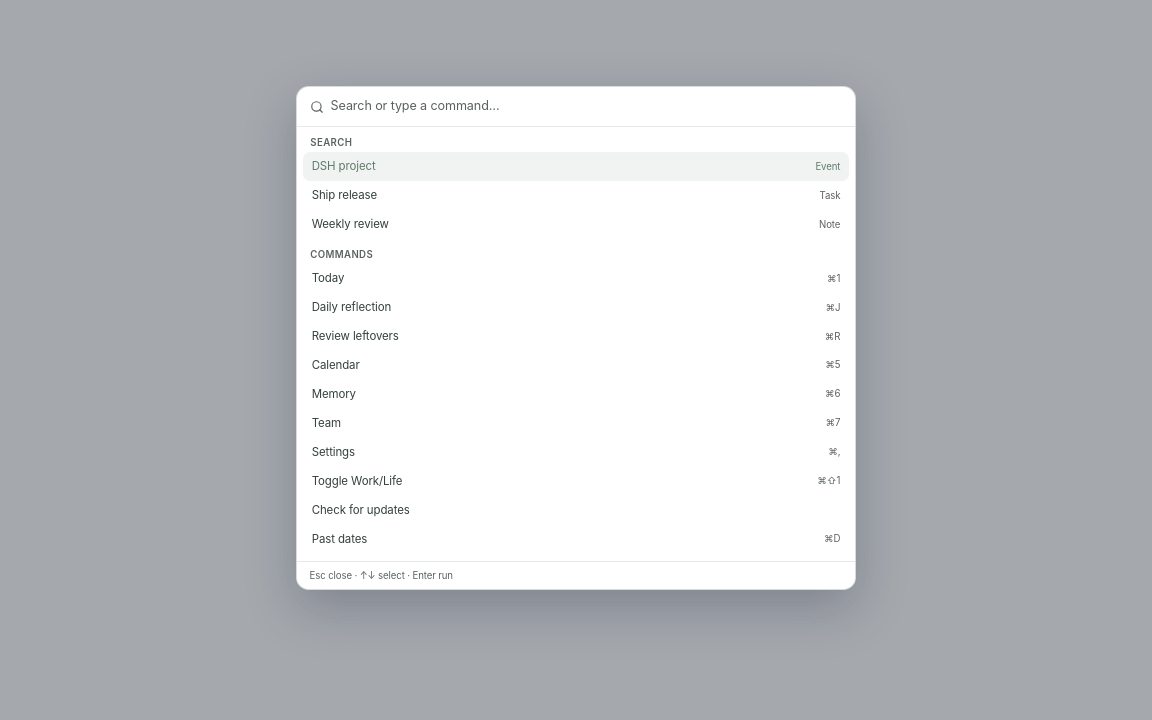
CommandPalette › filters items by query
The image size is (1152, 720).
Type "dsh" into the field. click: (586, 107)
box: [331,97,842,116]
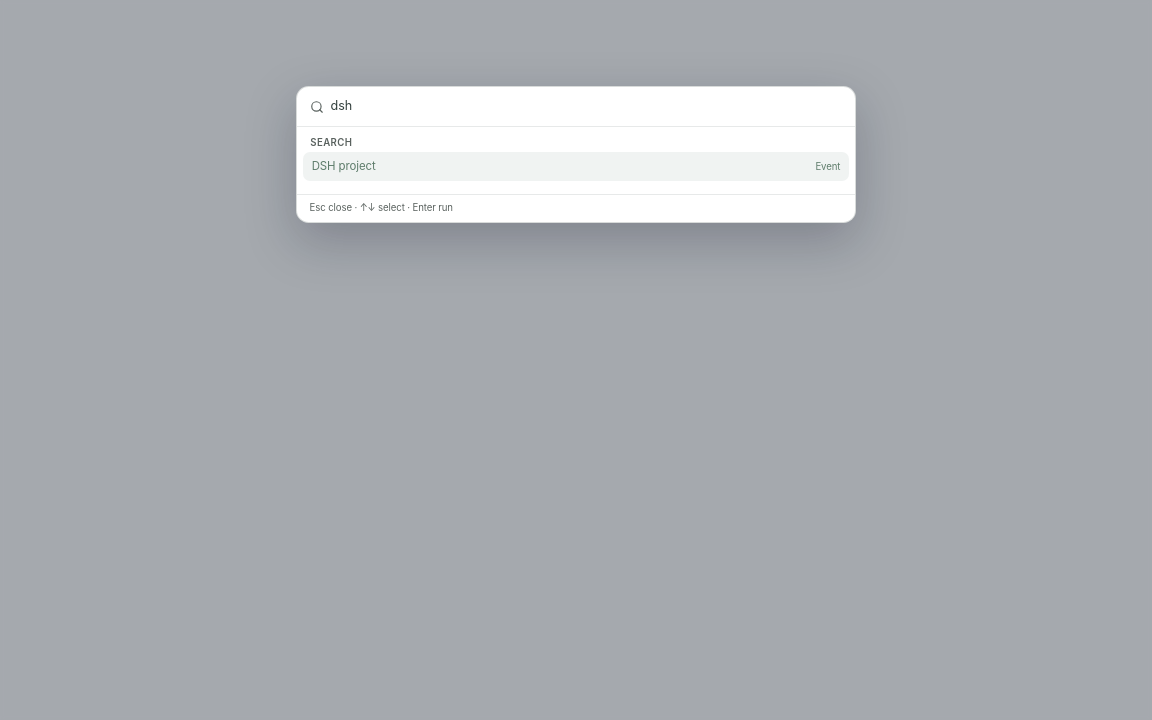
Expected: the button with test id "cmdk-item-event-e1" is shown, [303,152,849,182]
Result: the button with test id "cmdk-item-task-t1" is gone
Result: the button with test id "cmdk-item-settings" is gone
